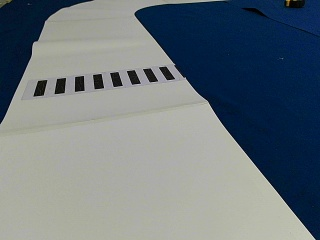crosswalk: (31, 66, 175, 96)
